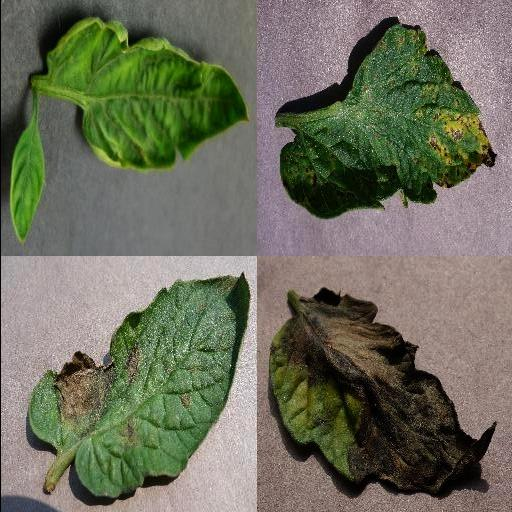Late Blight: (25, 274, 251, 498), (269, 287, 497, 495)
Septoria: (277, 26, 497, 219)
Yellow Leaf Curl Virus: (44, 19, 248, 169), (10, 120, 44, 244)
